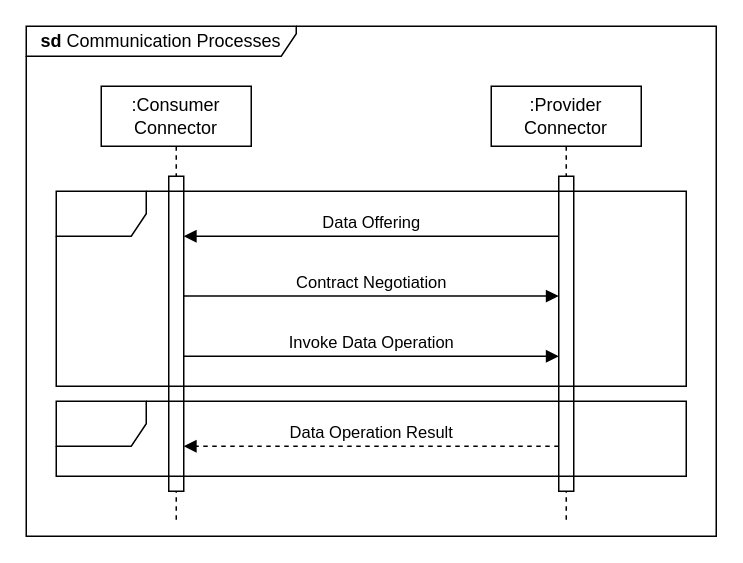
Some shapes in this 743 by 563 pixel diagram are drawn without their labels. The centre of each missing label's shape, as x and y in pixels:
Control Phase: point (370, 288)
Transfer Phase: point (370, 438)
